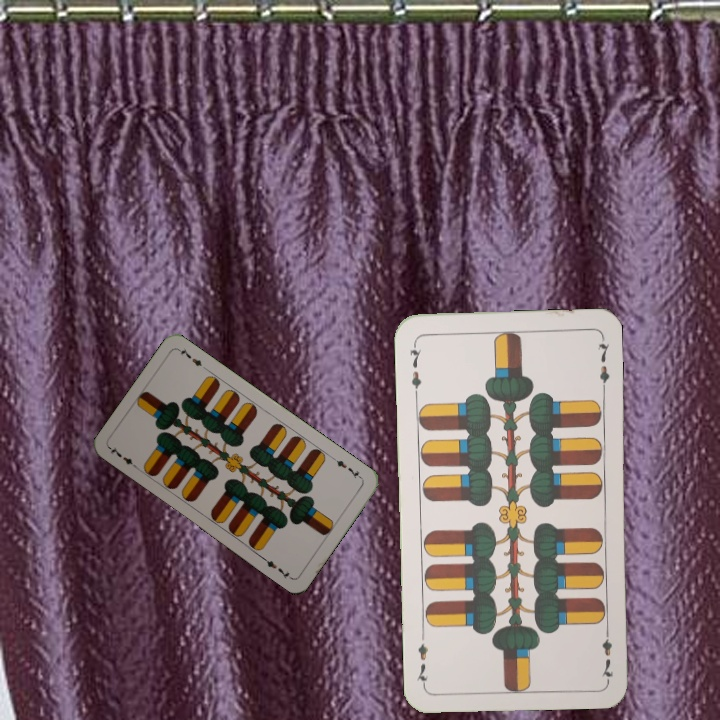E7: (405, 338, 424, 397), (598, 623, 616, 682), (329, 453, 365, 482), (106, 443, 141, 472)
